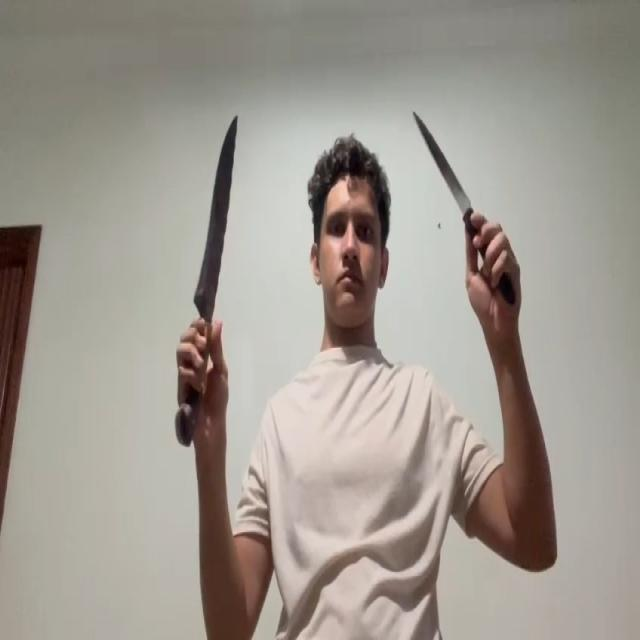knife: (193, 116, 238, 312), (414, 113, 470, 207)
